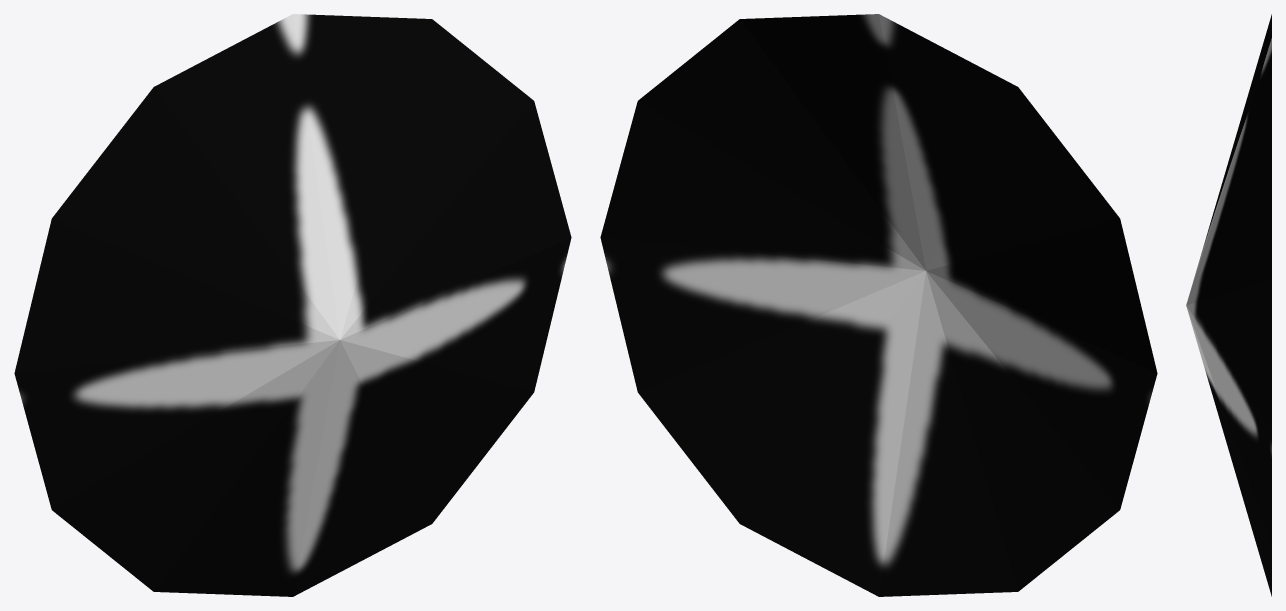
File: lb_jimbe_g0.fbx
3 views of the same model, side by side, from view 1: azimuth 30°, elevation 25°; view 2: azimuth 150°, elevation 25°; view 3: azimuth 270°, elevation 25° (orthographic). The views are drawn at different scales.
Visible parts, largest first — view 1: lb_jimbe_g0_L0_add; view 2: lb_jimbe_g0_L0_add; view 3: lb_jimbe_g0_L0_add.
Boxes of the visible parts, bbox=[...] form: lb_jimbe_g0_L0_add: bbox=[14, 14, 571, 596]; lb_jimbe_g0_L0_add: bbox=[600, 14, 1157, 596]; lb_jimbe_g0_L0_add: bbox=[1186, 14, 1271, 596].
Size of the model in its own units: 5.45 by 5.45 by 0.7984.
